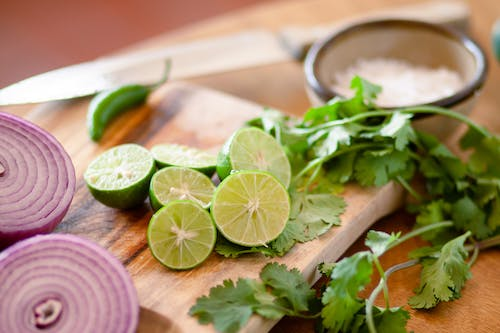knife: (0, 4, 471, 110)
